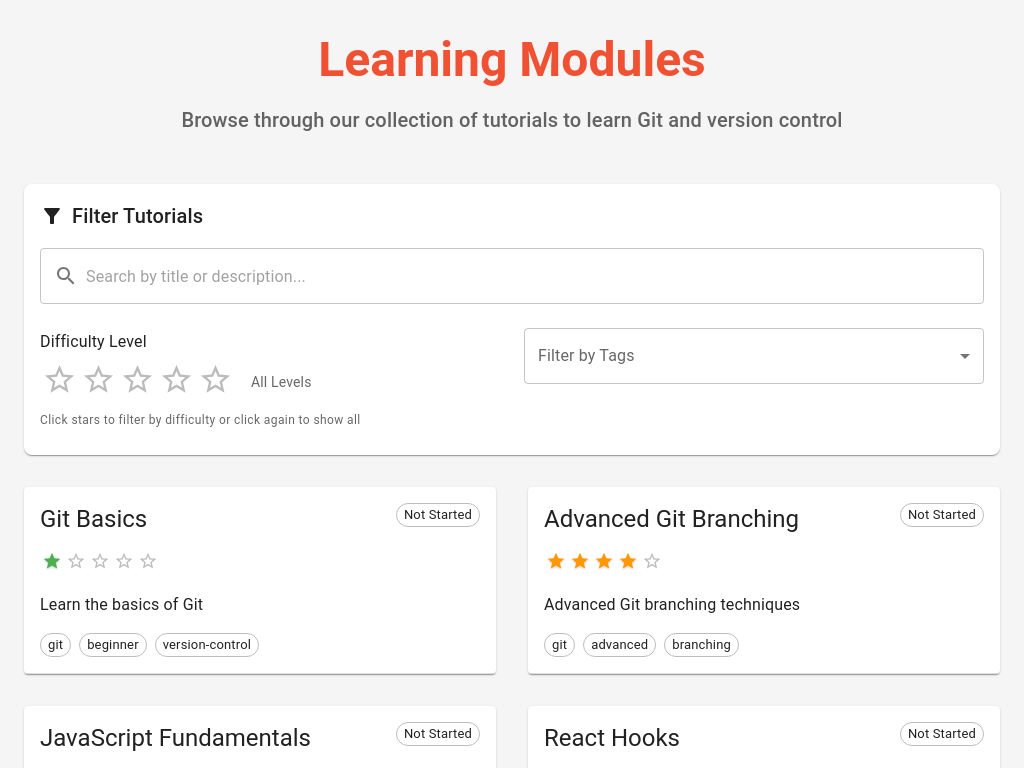
Test: Hashtag Filtering for Modules › filters modules when a tag is selected
Expected: the heading "Git Basics" is shown, [40,502,147,534]
Expected: the heading "JavaScript Fundamentals" is shown, [40,722,311,754]
Press the mouse on the dropdown named "Filter by Tags": coordinates (754, 356) [524,328,984,384]
(page scrolled)
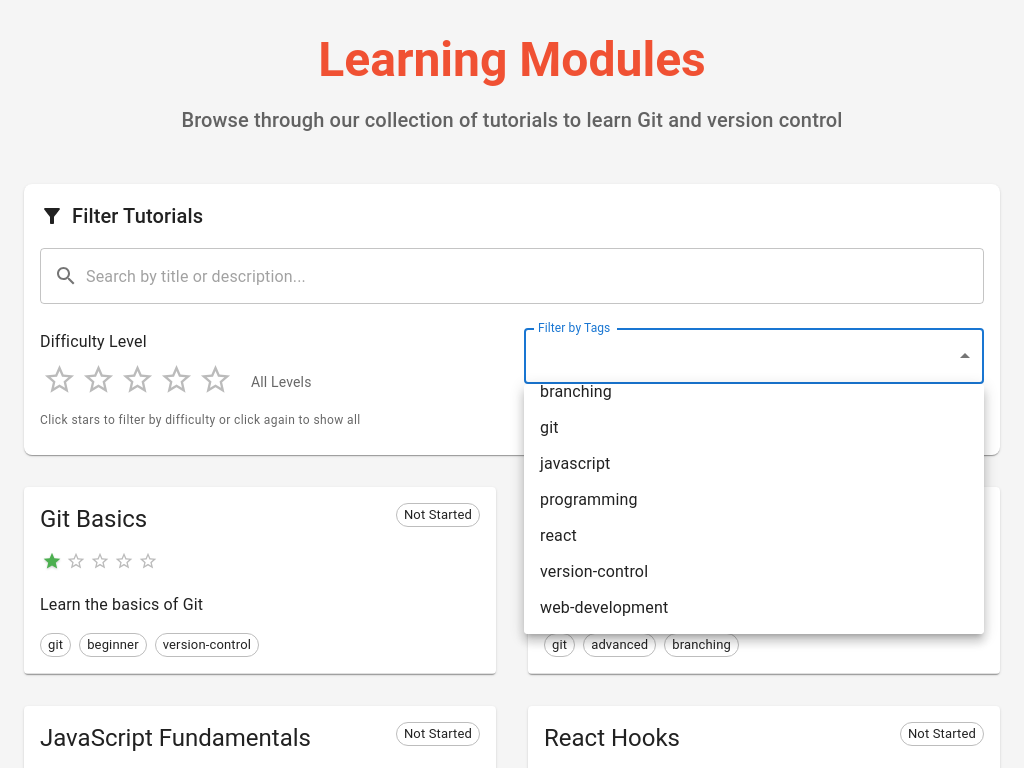
Click the option "react": coordinates (558, 536) [540,526,577,545]
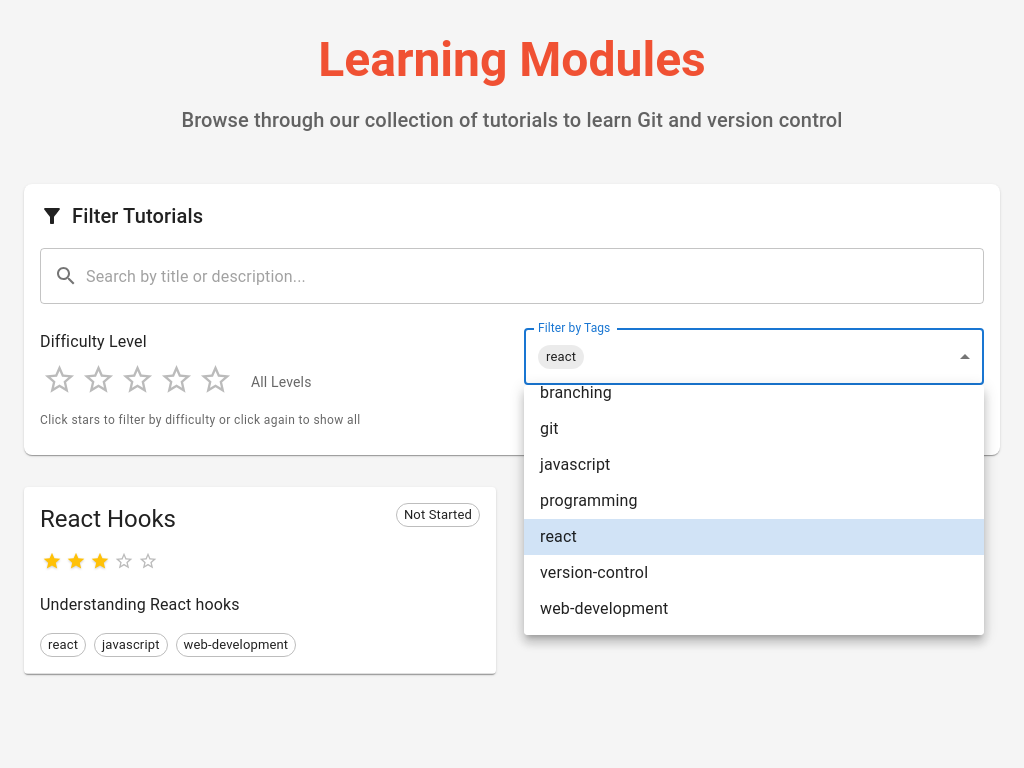
Expected: the heading "React Hooks" is shown, [40,502,176,534]
Result: the heading "Git Basics" is gone
Result: the heading "JavaScript Fundamentals" is gone
